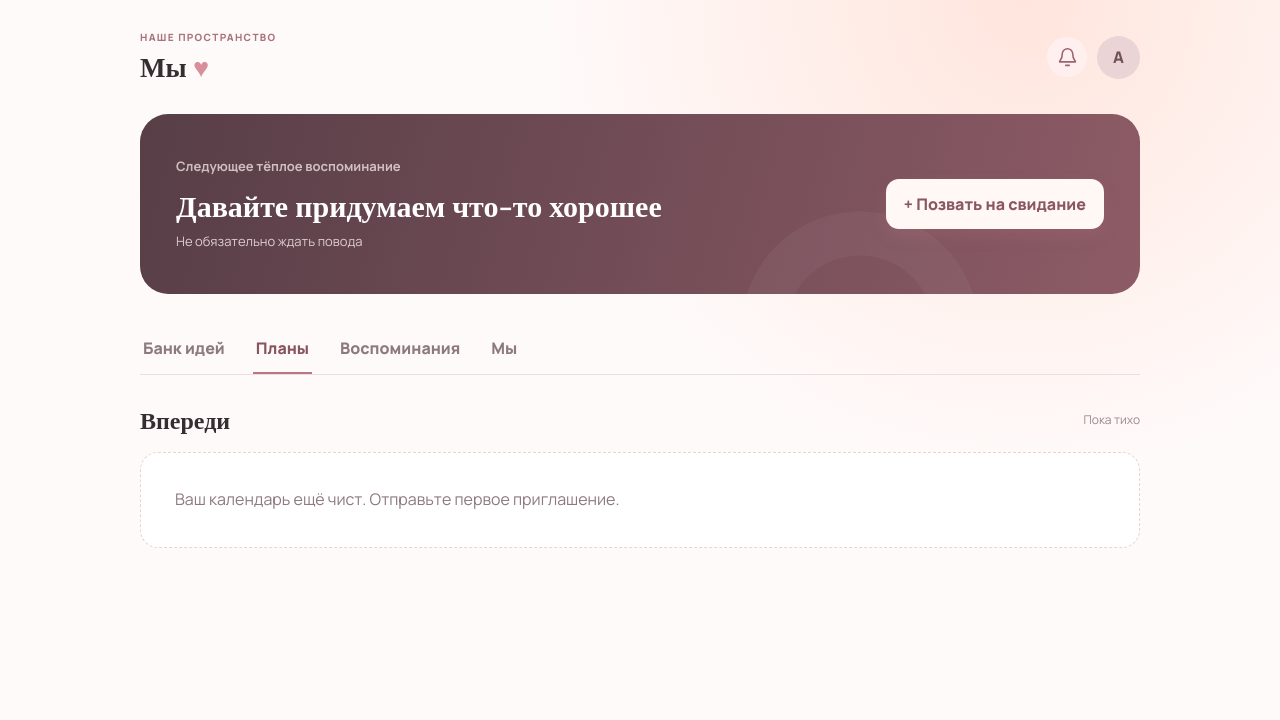
Test: date creation › closes the creation form when its backdrop is clicked
Click the button "+ Позвать на свидание" at (995, 204), box [886, 179, 1104, 229]
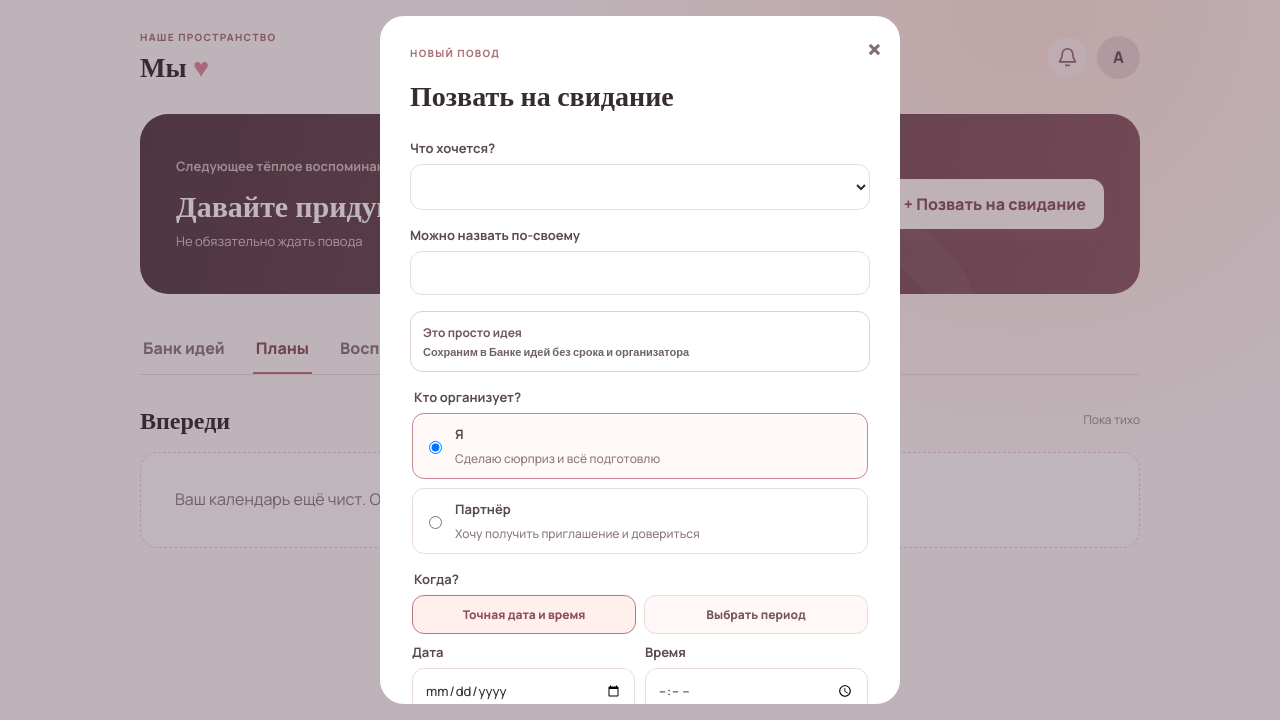
Click the element with class "overlay" at (77, 360), box [0, 0, 1279, 719]
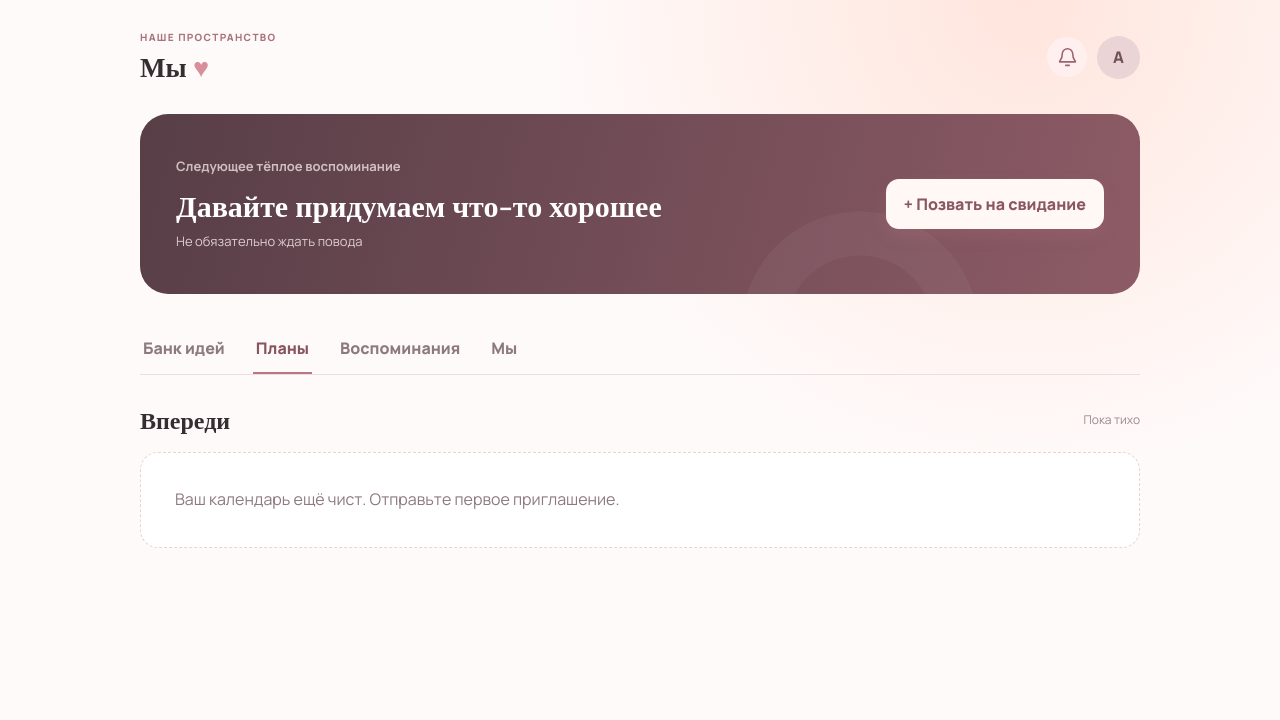
Expected: the text "НОВЫЙ ПОВОД" is gone
